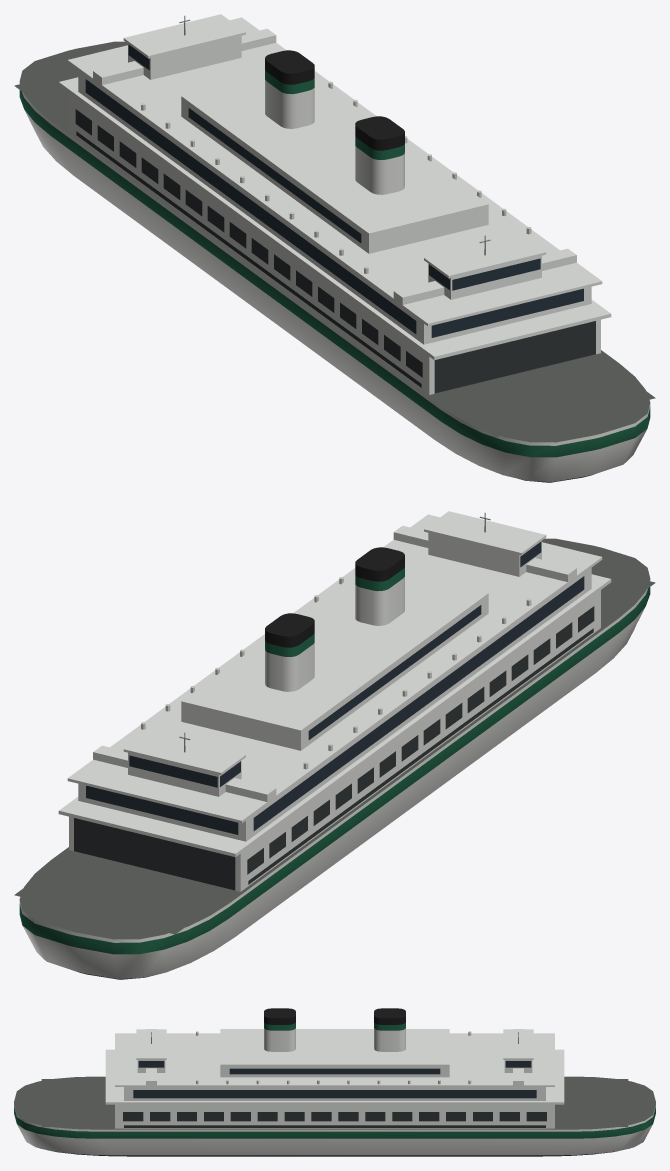
The model's file is seattle_ferry.glb.
3 views of the same model, one above another, from view 1: azimuth 30°, elevation 25°; view 2: azimuth 150°, elevation 25°; view 3: azimuth 270°, elevation 25° (orthographic). The views are drawn at different scales.
Visible parts, largest first — view 1: seattle_ferry; view 2: seattle_ferry; view 3: seattle_ferry.
Boxes of the visible parts, bbox=[...] form: seattle_ferry: bbox=[14, 14, 655, 482]; seattle_ferry: bbox=[14, 511, 655, 979]; seattle_ferry: bbox=[14, 1008, 655, 1156].
Bounding box in the file's own units: 27.4 × 29 × 140.
Materials: 1 (1 with a texture image).
